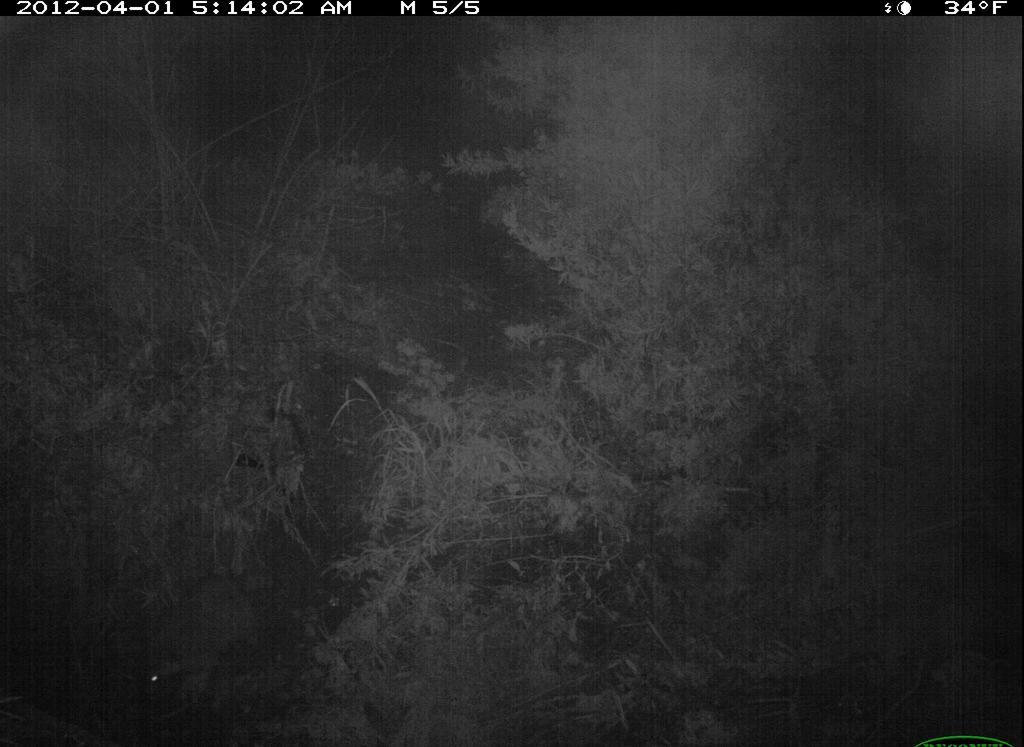raccoon: (111, 560, 312, 722)
